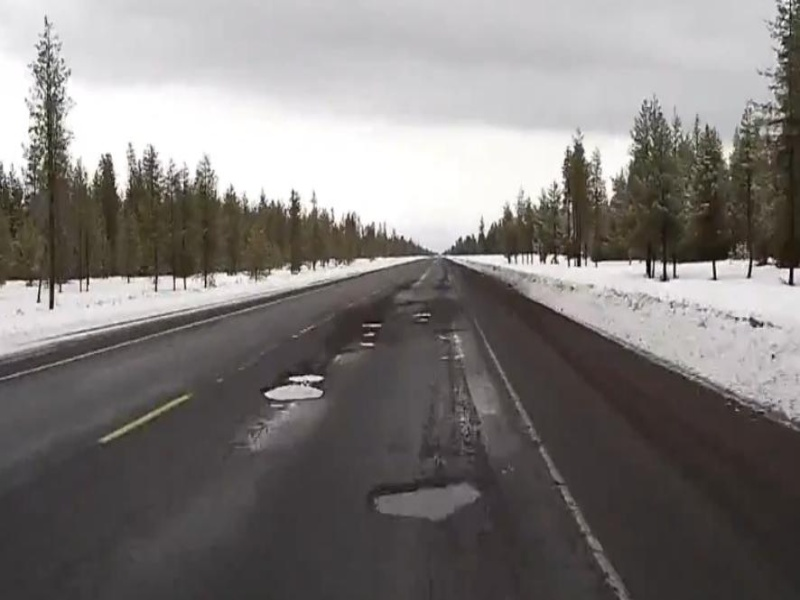pothole: (366, 478, 483, 520), (260, 385, 324, 402), (283, 367, 326, 386)
